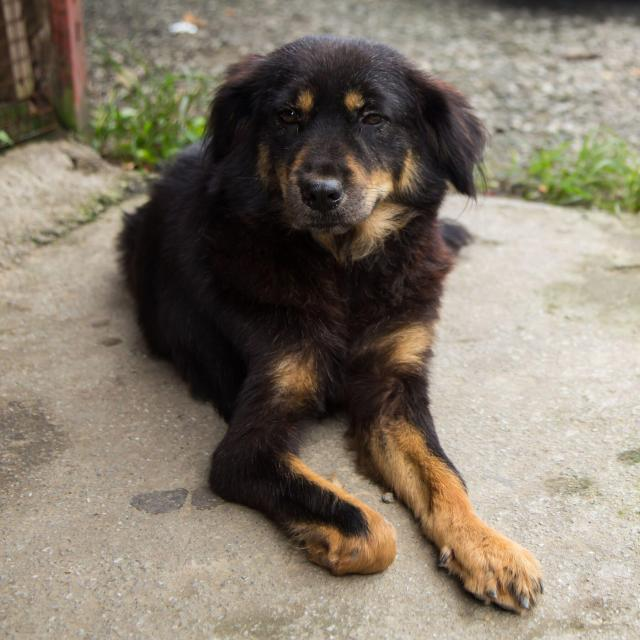Dog: (119, 36, 531, 601)
